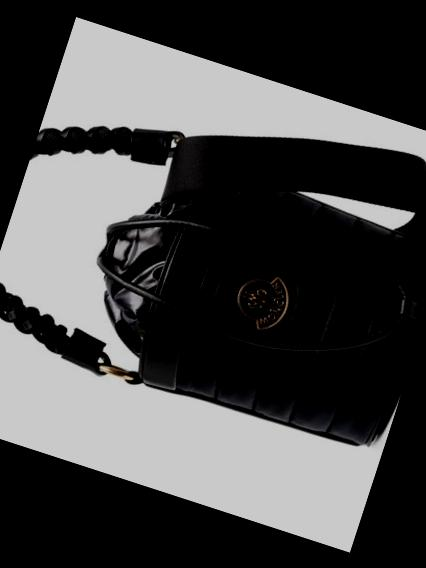MONCLER: (224, 257, 304, 344)
